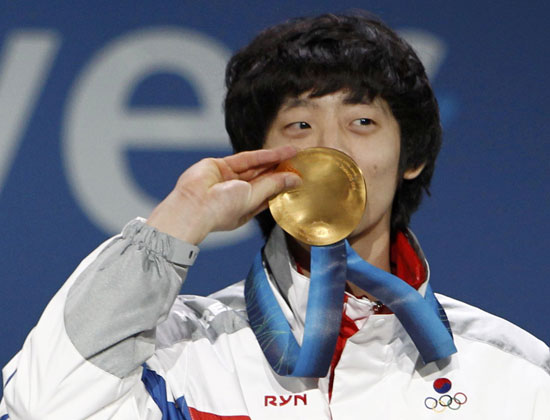face: (259, 76, 400, 244)
